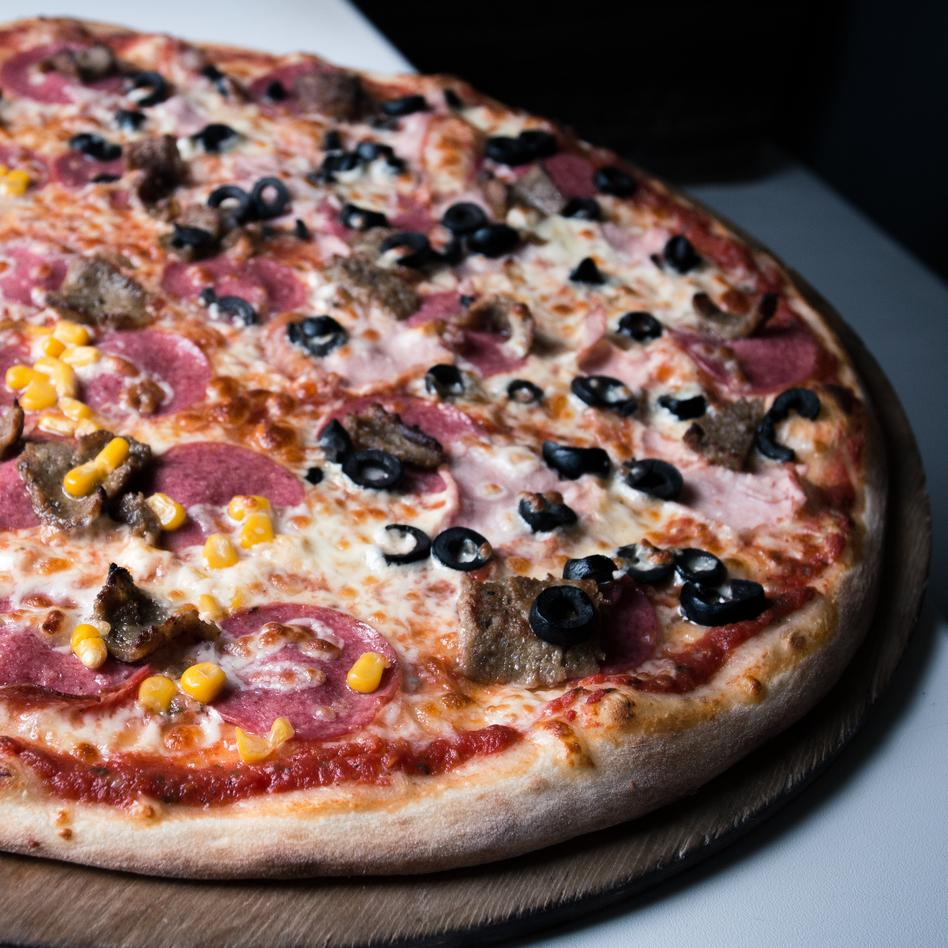Corn: (149, 492, 274, 567), (7, 339, 80, 410), (47, 434, 134, 491), (422, 319, 528, 361), (132, 672, 219, 710), (0, 167, 38, 202)
Olives: (562, 549, 760, 623), (346, 204, 517, 264), (544, 434, 694, 494), (569, 369, 708, 420), (319, 416, 400, 488), (382, 522, 497, 570), (766, 391, 818, 469), (172, 186, 289, 220), (307, 146, 408, 185), (529, 586, 599, 634), (292, 313, 347, 357), (485, 126, 560, 157), (122, 73, 169, 106), (663, 232, 700, 270), (619, 312, 664, 343), (425, 362, 466, 395), (597, 167, 636, 196), (572, 253, 609, 283), (349, 657, 381, 690), (201, 120, 232, 153), (386, 91, 428, 115), (560, 201, 604, 221), (509, 378, 537, 406)
Pepperoni: (212, 606, 392, 739), (154, 440, 291, 549), (6, 595, 139, 691), (84, 327, 205, 416), (676, 321, 826, 387), (0, 37, 122, 112), (166, 257, 307, 314), (346, 390, 475, 449), (506, 157, 605, 201), (56, 149, 124, 185)
Pizza: (0, 18, 896, 894)
